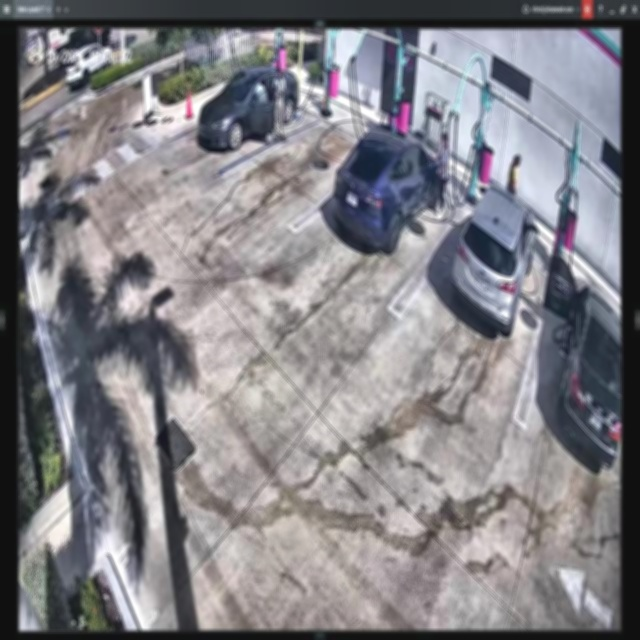Car: (333, 133, 442, 254), (451, 185, 532, 335), (195, 66, 301, 153)
